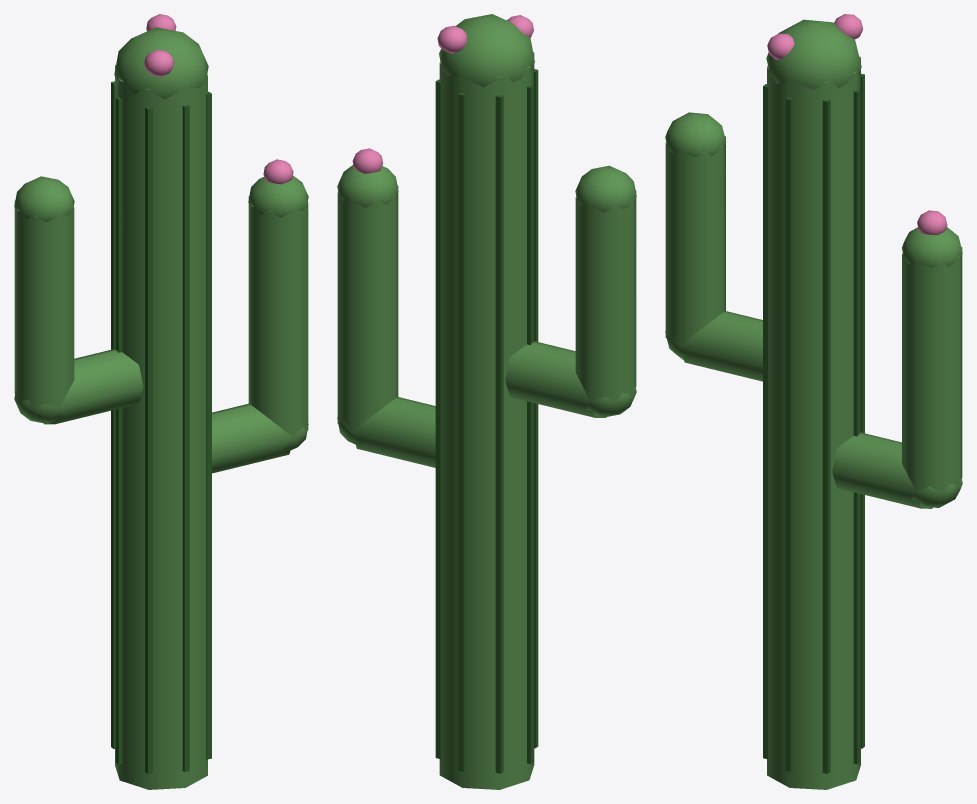
File: arbre_desert_3.glb
The picture shows the model from 3 angles, left to right: view 1: azimuth 30°, elevation 25°; view 2: azimuth 150°, elevation 25°; view 3: azimuth 330°, elevation 25°; orthographic projection.
Visible parts, largest first — view 1: fut.002, cactus_cactus.004, cactus_feuille_sombre.002, cactus_rose.004; view 2: fut.002, cactus_cactus.004, cactus_feuille_sombre.002, cactus_rose.004; view 3: fut.002, cactus_cactus.004, cactus_feuille_sombre.002, cactus_rose.004.
Part boxes in pixels (<box>): fut.002: <box>115,65,207,789</box>; cactus_cactus.004: <box>14,27,308,473</box>; cactus_feuille_sombre.002: <box>111,81,211,773</box>; cactus_rose.004: <box>144,14,293,184</box>; fut.002: <box>439,52,534,789</box>; cactus_cactus.004: <box>337,14,636,467</box>; cactus_feuille_sombre.002: <box>435,69,538,773</box>; cactus_rose.004: <box>352,15,533,173</box>; fut.002: <box>767,56,860,789</box>; cactus_cactus.004: <box>665,19,962,508</box>; cactus_feuille_sombre.002: <box>763,73,864,773</box>; cactus_rose.004: <box>767,14,947,235</box>.
Size of the model in its own units: 1.72 by 4.22 by 0.53.
